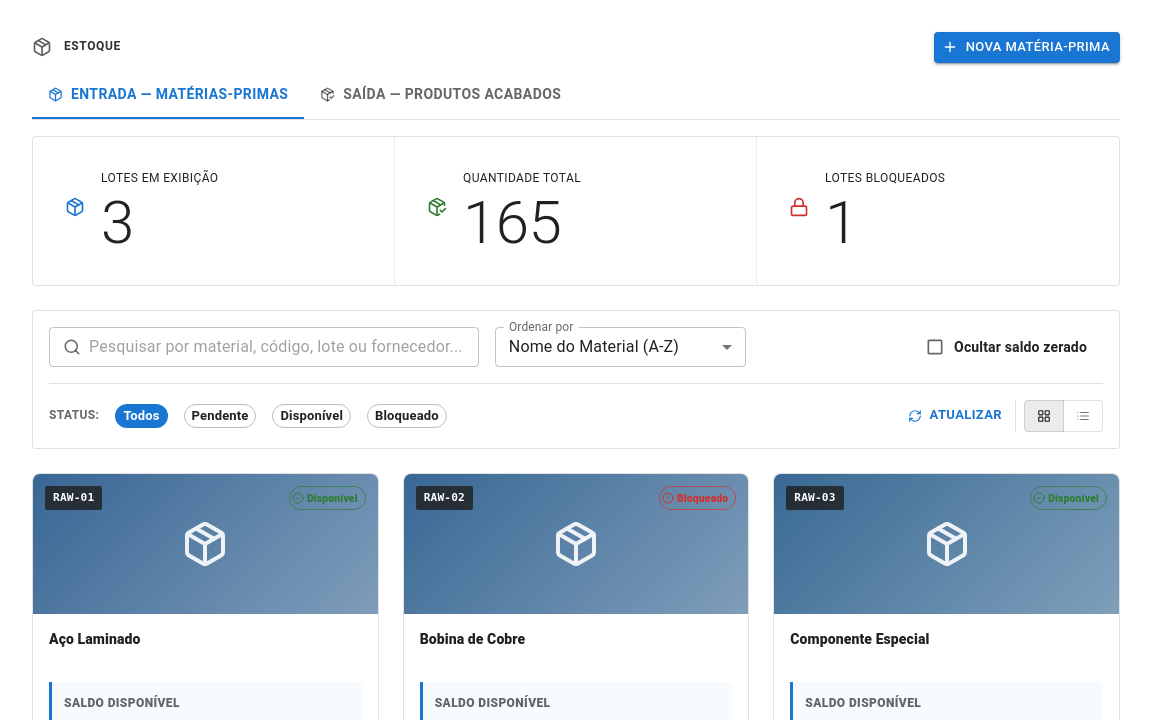
it: InventoryStocksPage › filters by status chip clicks
// Click "Bloqueado" status filter
Click the button "Bloqueado" at point(407, 416), box [367,404,447,428]
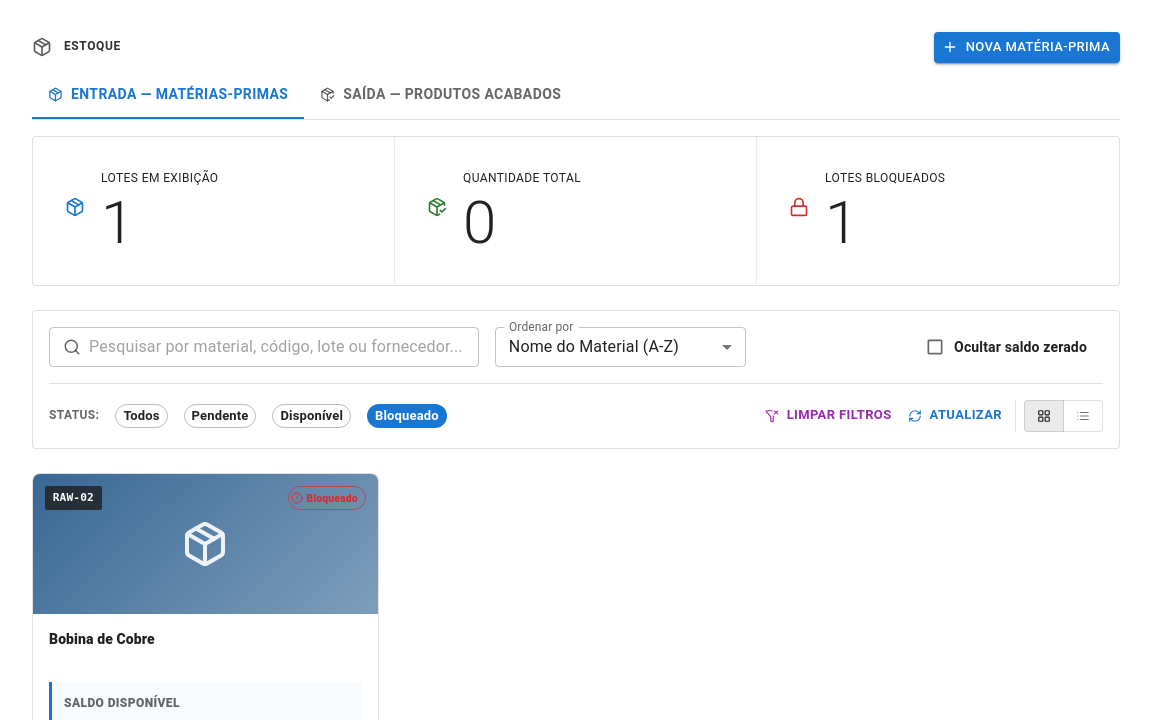
Expected: the heading "Bobina de Cobre" is shown, [49,631,155,647]
Expected: the heading "Aço Laminado" is gone
Expected: the heading "Componente Especial" is gone
